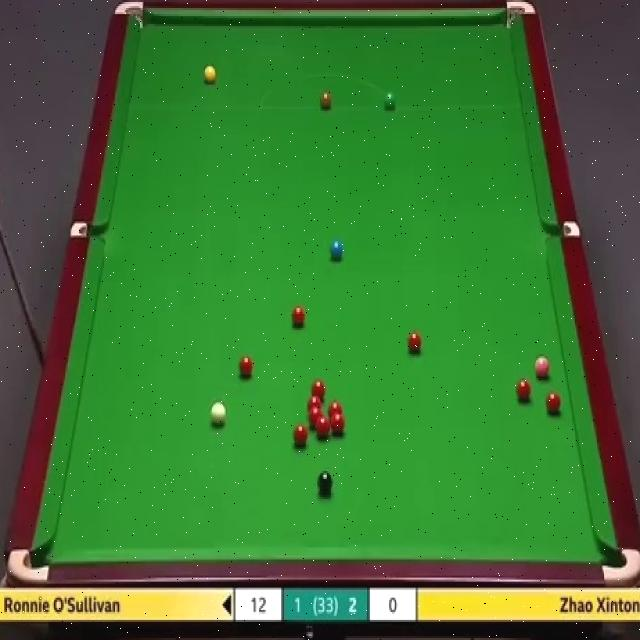black-ball: (316, 468, 334, 494)
blue-ball: (331, 240, 344, 260)
brown-ball: (318, 91, 332, 110)
green-ball: (383, 91, 398, 111)
pink-ball: (534, 356, 552, 379)
red-ball: (516, 377, 532, 402), (546, 390, 562, 414), (238, 355, 254, 378), (307, 404, 323, 427), (291, 304, 306, 328), (406, 330, 422, 352), (331, 411, 346, 433), (294, 425, 309, 446), (311, 379, 325, 400), (316, 418, 330, 438), (306, 396, 322, 413), (328, 401, 342, 418)
white-ball: (209, 401, 228, 428)
yellow-ball: (203, 66, 216, 86)
